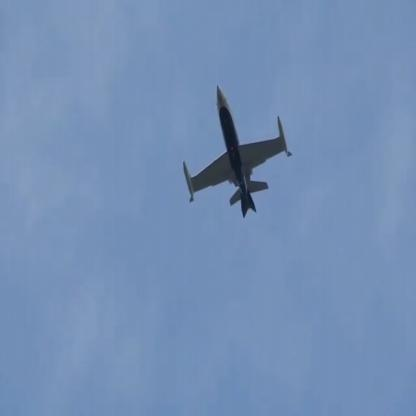CIV_Plane: (179, 83, 297, 219)
